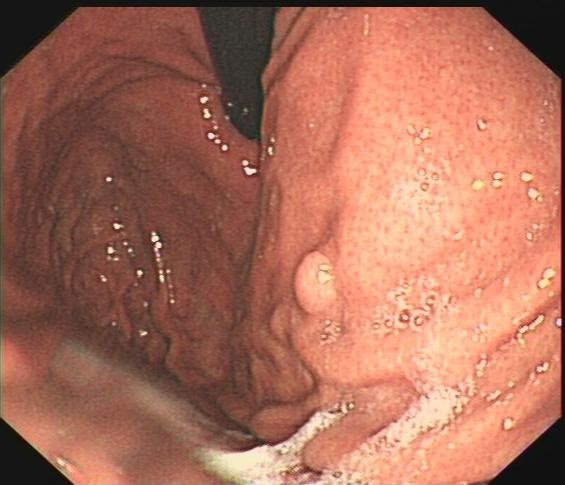Polyp: (275, 229, 350, 334)
